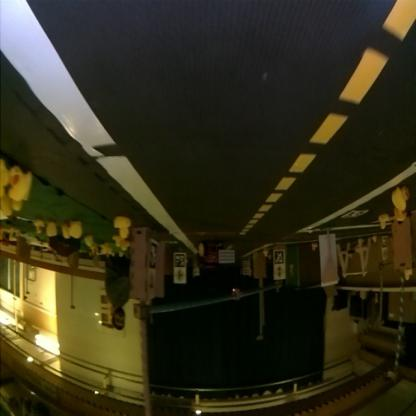Duckie: (9, 167, 32, 201), (393, 188, 410, 210), (115, 218, 131, 238), (70, 222, 82, 238), (394, 208, 406, 221), (380, 216, 390, 230), (47, 224, 57, 236), (405, 271, 413, 280)
Duckiebot: (198, 244, 236, 271)
Intersection sign: (148, 274, 156, 298), (174, 270, 186, 284)
QR code: (150, 240, 158, 270), (342, 211, 368, 219), (174, 254, 186, 269), (276, 252, 286, 264)
